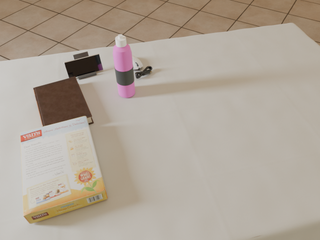book: (33, 77, 94, 127)
bottle: (113, 34, 135, 98)
box: (20, 116, 107, 224)
mouse: (132, 55, 143, 70)
phone: (64, 54, 103, 78)
